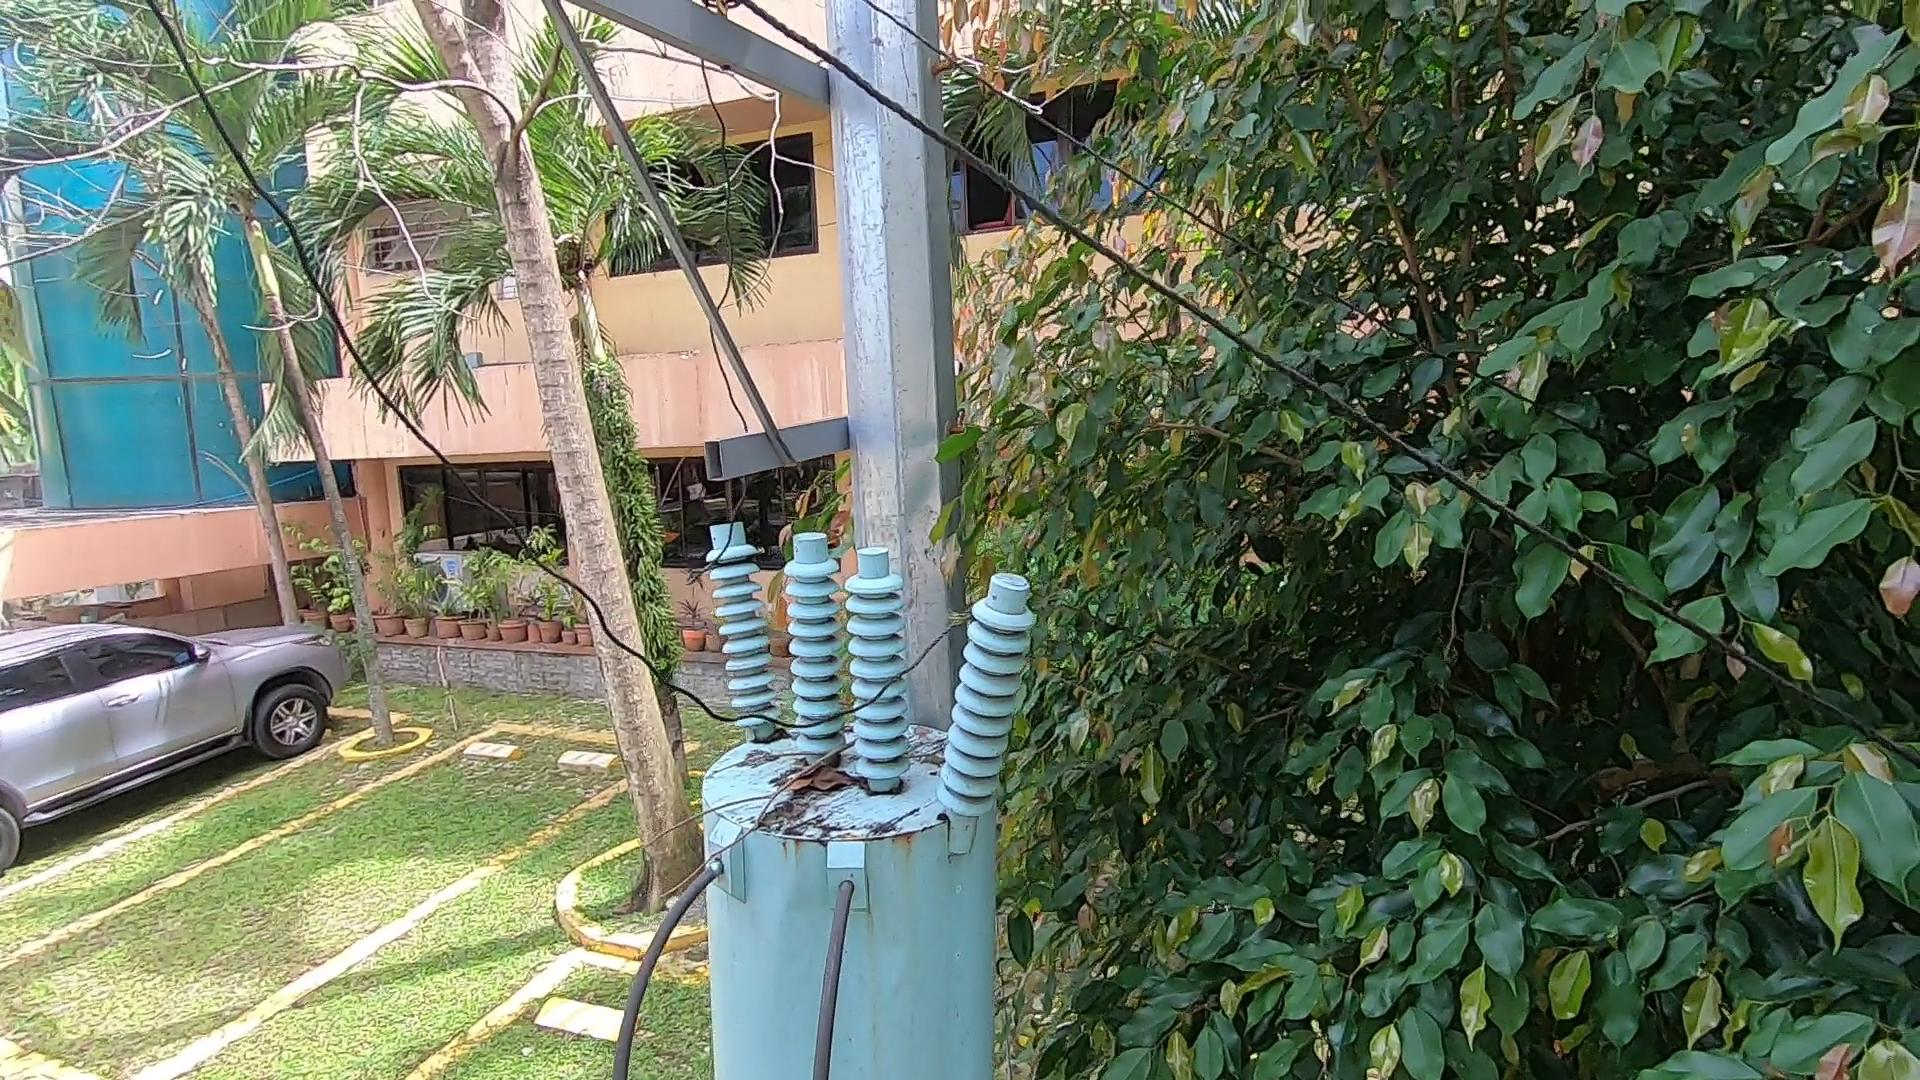leaf: (790, 766, 866, 800), (758, 725, 810, 752)
tree branch: (633, 716, 856, 916)
